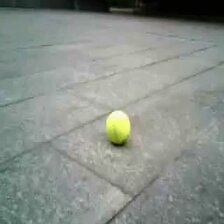tennis: (105, 110, 130, 144)
